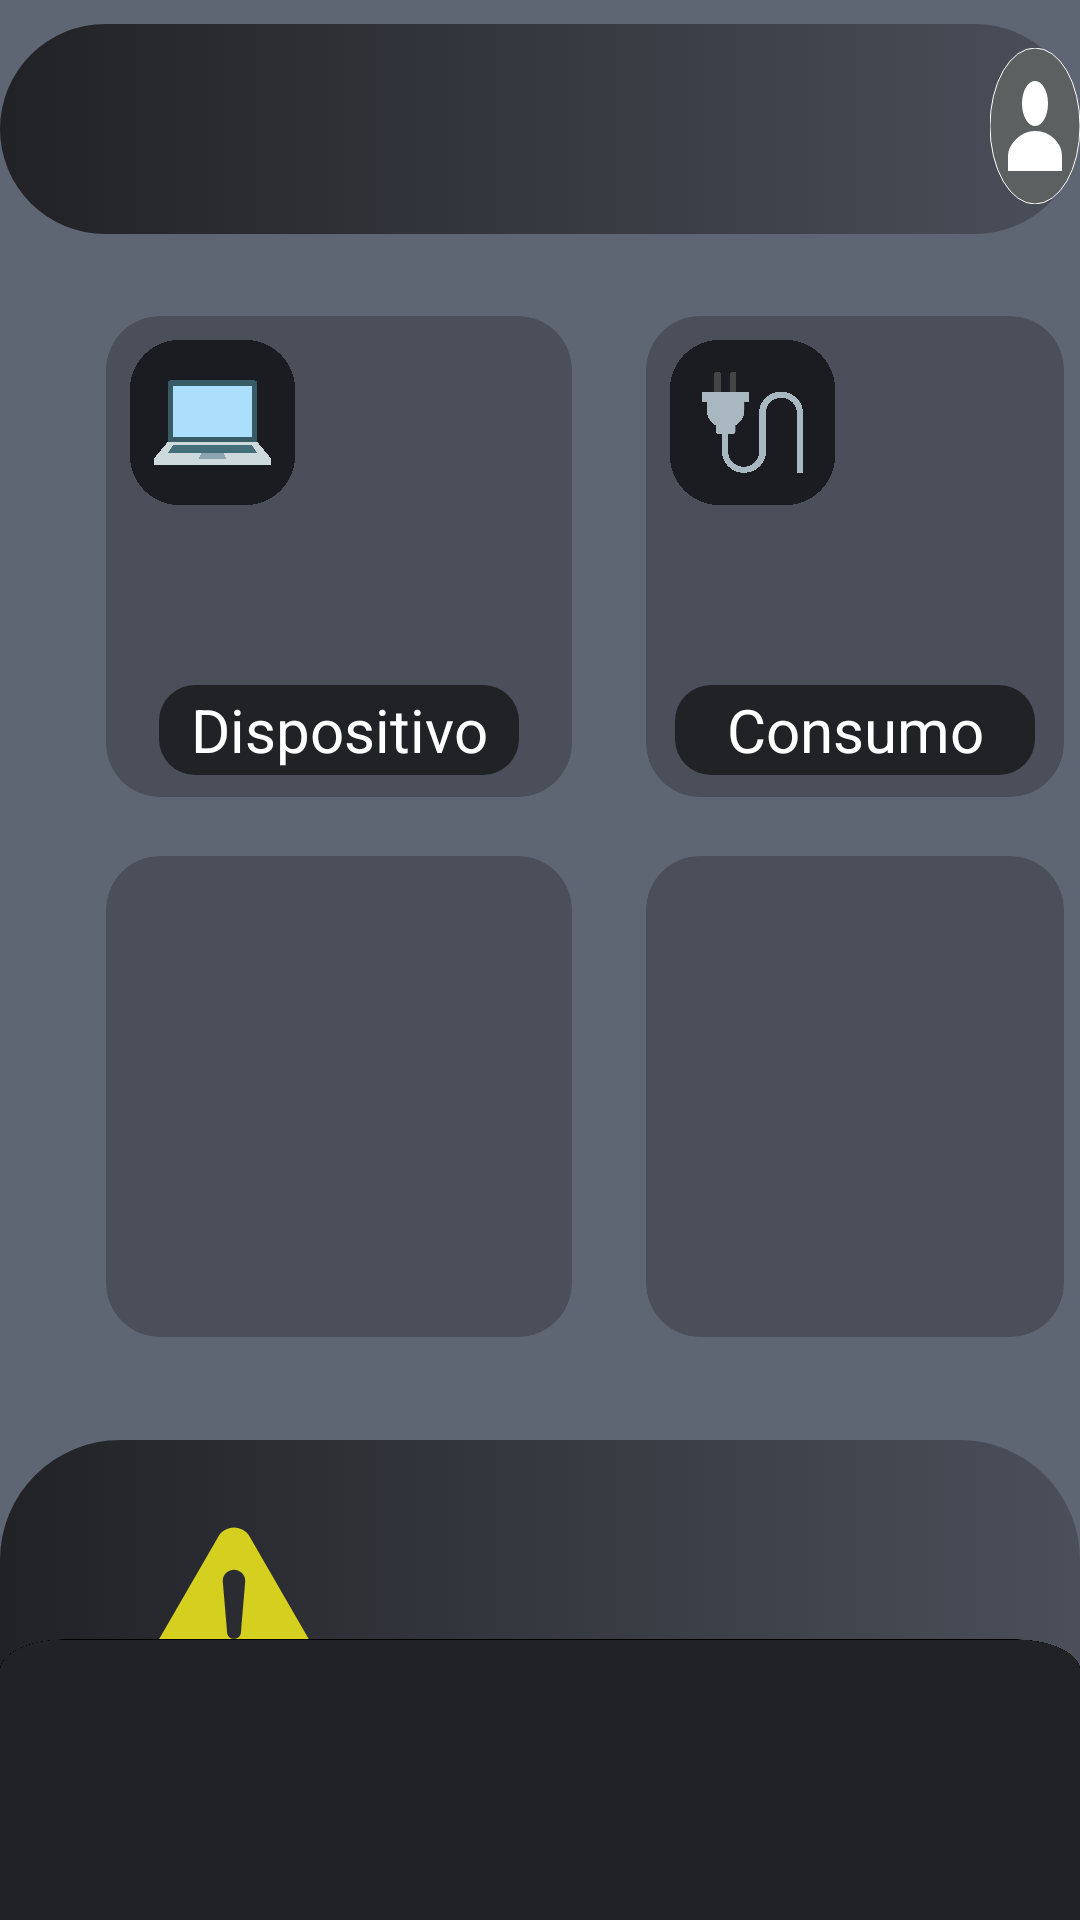

Icon click points for this 1080 × 1920 phone screenshot, format [x,y]:
device notebook: [212,422]
electric: [752,422]
